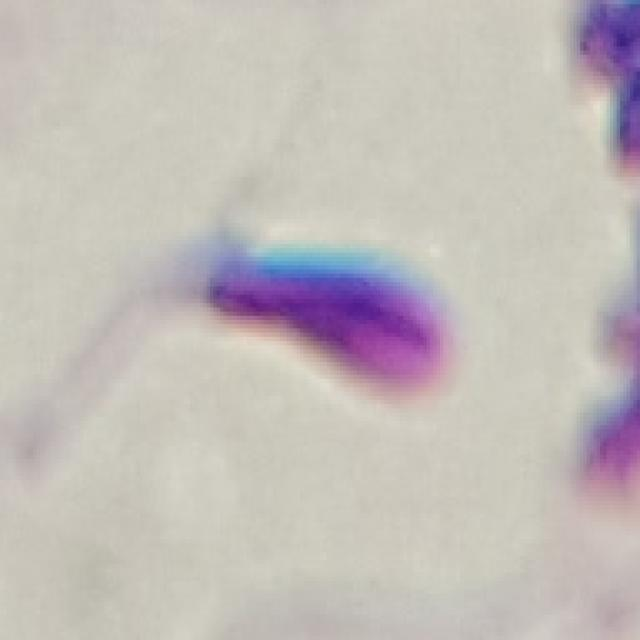abnormal sperm: (40, 232, 469, 441)
